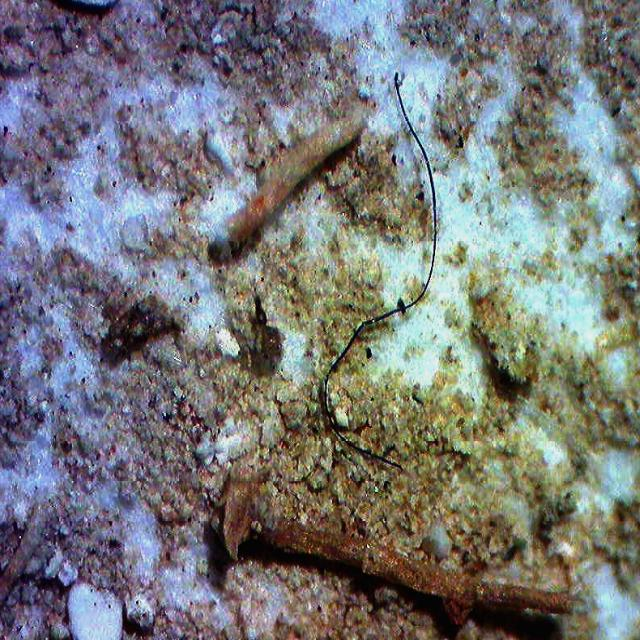microplastic: (324, 71, 437, 472)
